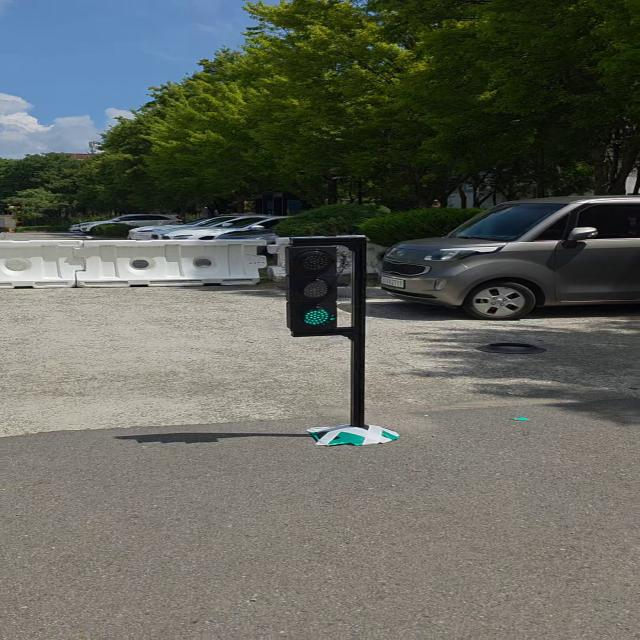green: (289, 246, 339, 336)
